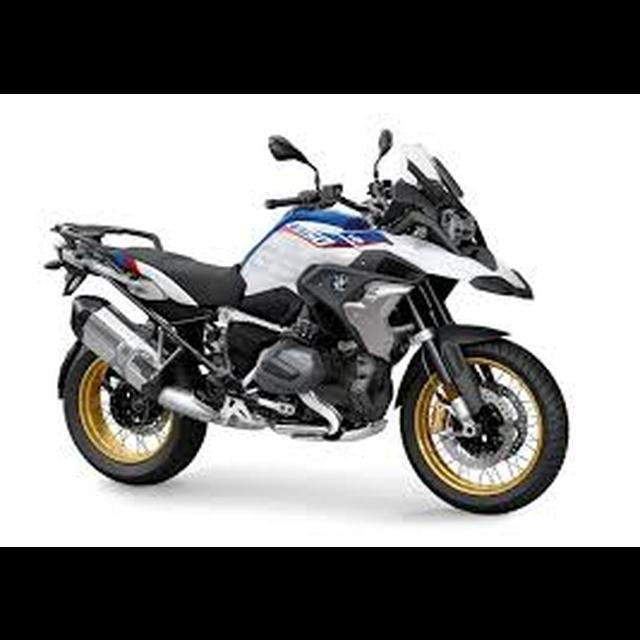motorcycle: (39, 121, 576, 520)
